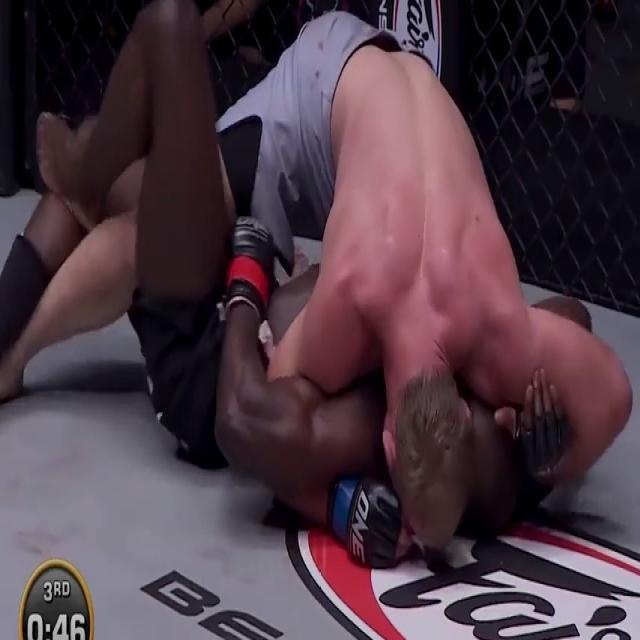fight: (9, 0, 606, 639)
